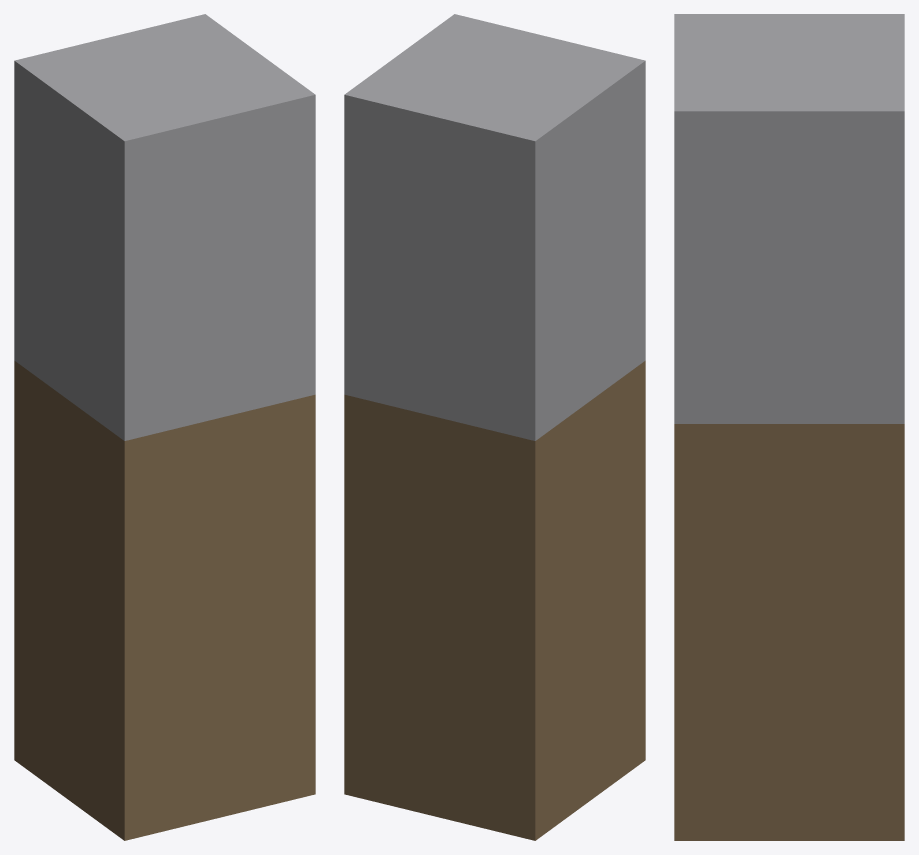
The model's file is engastador_garras_01.glb.
The picture shows the model from 3 angles, left to right: view 1: azimuth 30°, elevation 25°; view 2: azimuth 150°, elevation 25°; view 3: azimuth 270°, elevation 25°; orthographic projection. The views are drawn at different scales.
Visible parts, largest first — view 1: engastador_garras; view 2: engastador_garras; view 3: engastador_garras.
Part boxes in pixels (x1=…): engastador_garras: x1=14, y1=14, x2=315, y2=840; engastador_garras: x1=344, y1=14, x2=645, y2=840; engastador_garras: x1=674, y1=14, x2=904, y2=840.
Size of the model in its own units: 0.1667 by 0.5833 by 0.1667.
